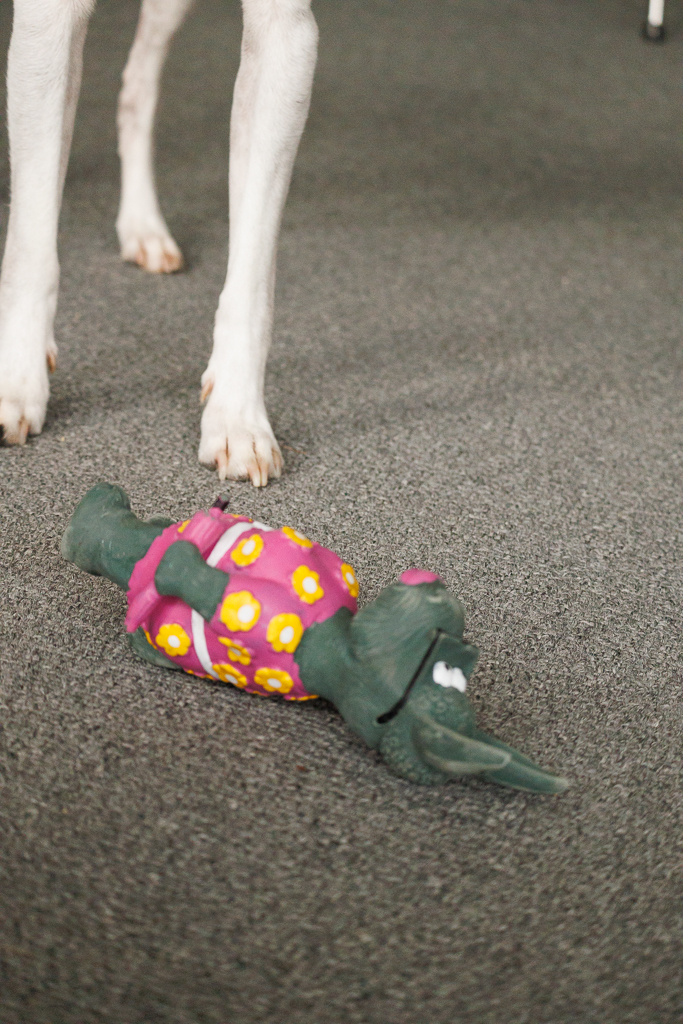Dog: (0, 0, 327, 508)
Humanoid: (51, 473, 583, 805)
